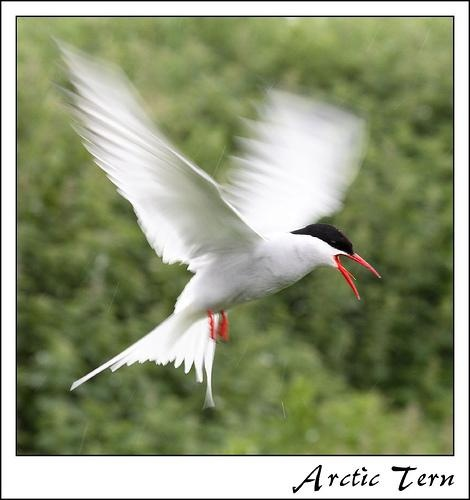bird: (46, 35, 386, 396)
